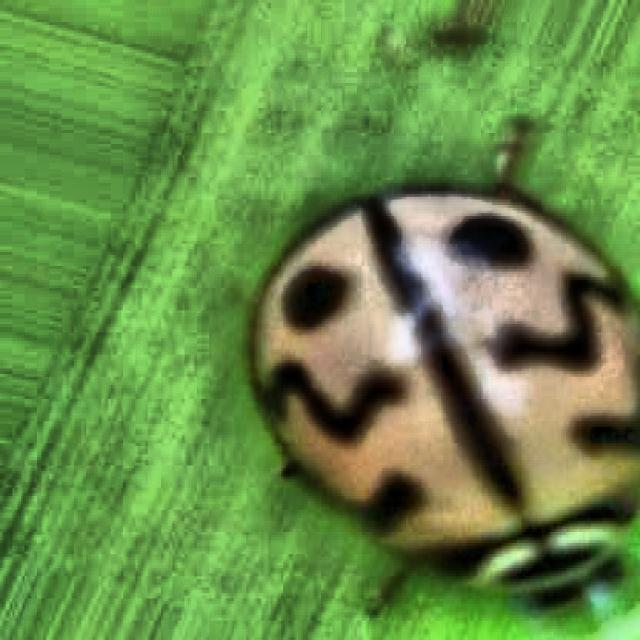Asian-Lady-beetle: (203, 116, 640, 640)
